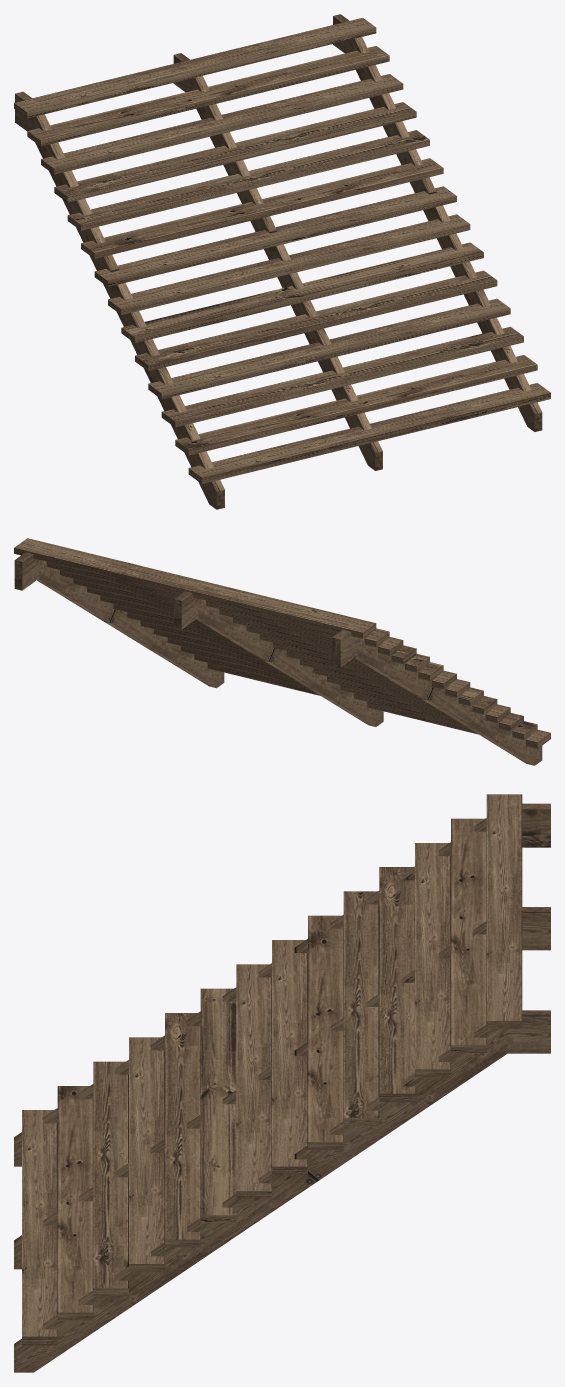
Rendered from wideStaircase.dae.
3 views of the same model, one above another, from view 1: azimuth 30°, elevation 25°; view 2: azimuth 150°, elevation 25°; view 3: azimuth 270°, elevation 25° (orthographic). The views are drawn at different scales.
Visible parts, largest first — view 1: wideStaircase; view 2: wideStaircase; view 3: wideStaircase.
Part boxes in pixels (x1,y1,x2,y2): wideStaircase: (14, 14, 550, 509); wideStaircase: (14, 538, 550, 765); wideStaircase: (14, 794, 550, 1372).
Bounding box in the file's own units: 4 × 2.96 × 4.01.
1 material, 1 textured.
